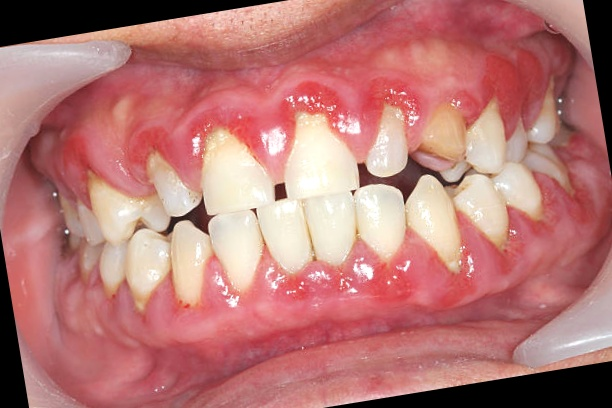Gingivitis: (128, 290, 476, 381), (477, 45, 555, 136), (175, 93, 257, 159), (336, 251, 421, 304), (272, 74, 350, 130), (353, 67, 423, 129), (121, 114, 173, 172), (478, 235, 525, 281), (265, 272, 318, 310), (446, 83, 484, 124)
